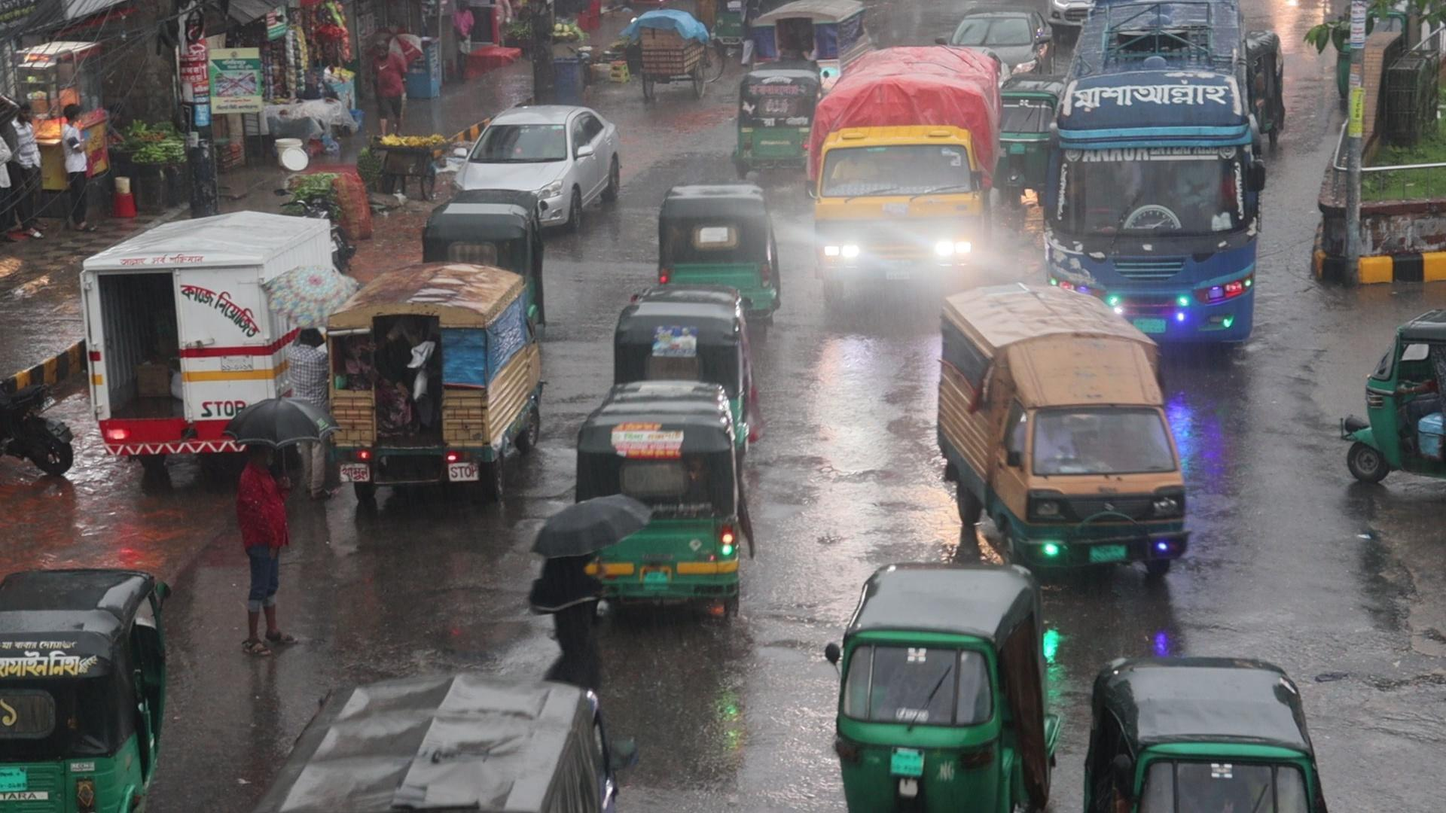Bus: (1046, 1, 1264, 315)
Truck: (933, 279, 1191, 564), (322, 257, 548, 495), (800, 43, 1004, 289)
